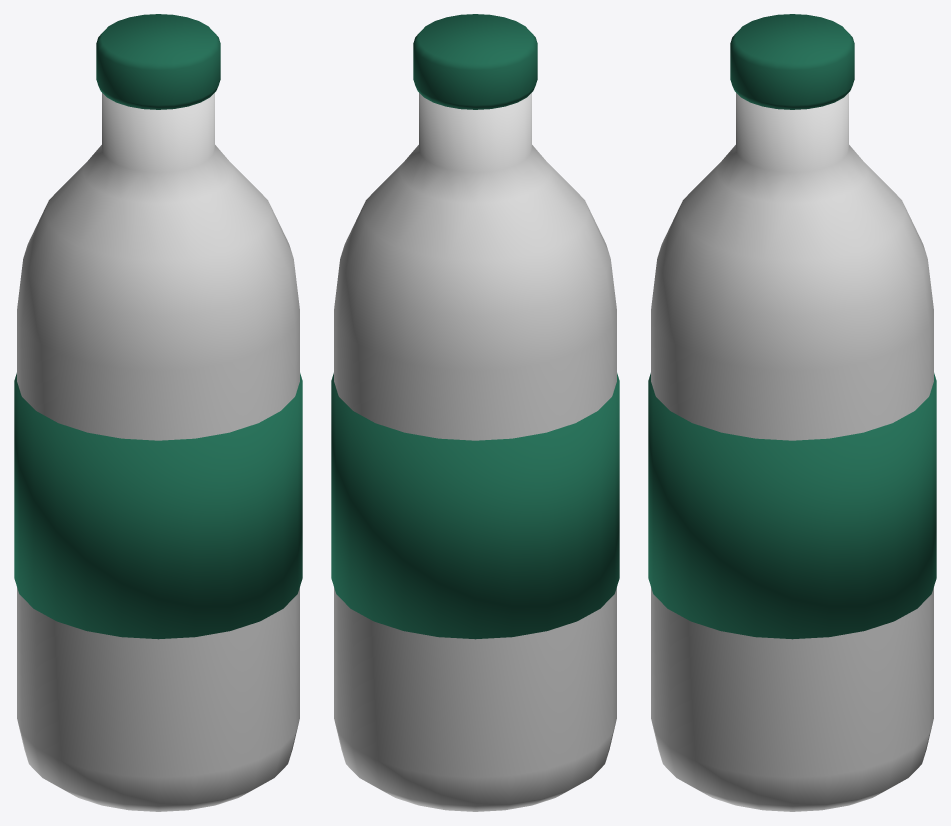
The model's file is bottle.glb.
The picture shows the model from 3 angles, left to right: view 1: azimuth 30°, elevation 25°; view 2: azimuth 150°, elevation 25°; view 3: azimuth 270°, elevation 25°; orthographic projection.
Visible parts, largest first — view 1: body, band, cap; view 2: body, band, cap; view 3: body, band, cap.
Boxes of the visible parts, <box> form: body: <box>17,93,299,811</box>; band: <box>14,373,302,639</box>; cap: <box>96,14,220,109</box>; body: <box>334,93,616,811</box>; band: <box>331,373,619,639</box>; cap: <box>413,14,537,109</box>; body: <box>651,93,933,811</box>; band: <box>648,373,936,639</box>; cap: <box>730,14,854,109</box>.
Bounding box in the file's own units: 0.45 × 1.25 × 0.45.
